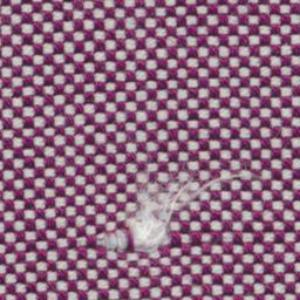fault: (85, 169, 256, 255)
